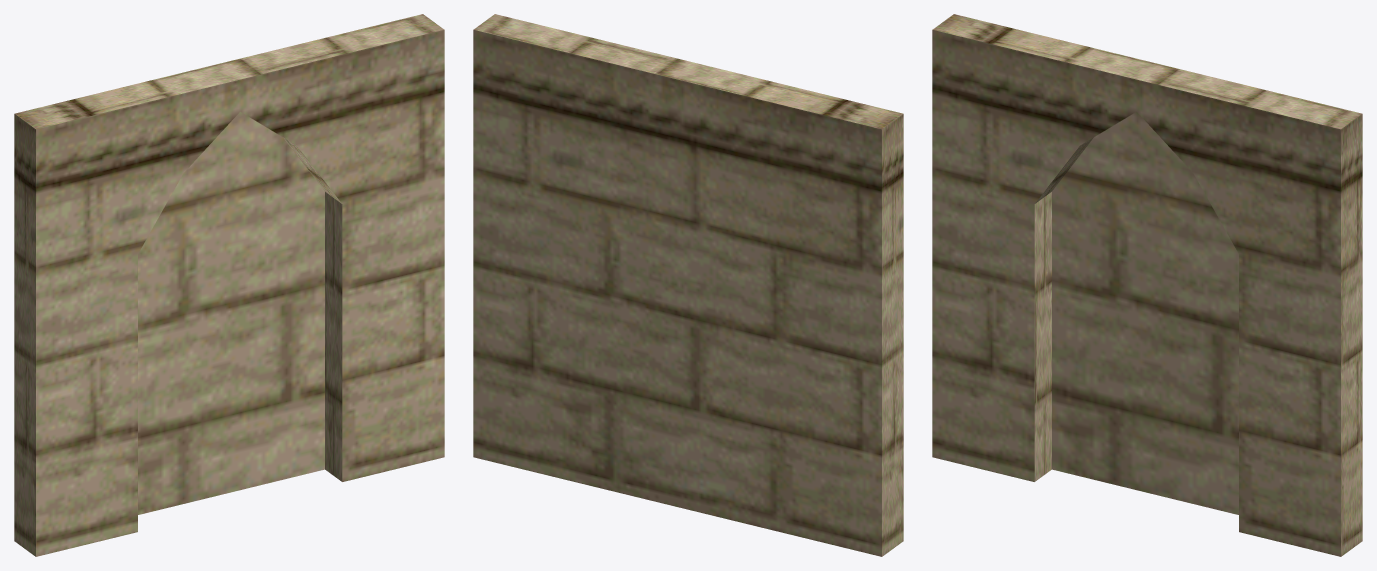
Rendered from KnightPlace.obj.
3 renders of one model, left to right at view 1: azimuth 30°, elevation 25°; view 2: azimuth 150°, elevation 25°; view 3: azimuth 330°, elevation 25°, orthographic.
Visible parts, largest first — view 1: KnightPlace_Cube; view 2: KnightPlace_Cube; view 3: KnightPlace_Cube.
Part boxes in pixels (x1,y1,x2,y2): KnightPlace_Cube: [14, 14, 444, 556]; KnightPlace_Cube: [473, 14, 903, 556]; KnightPlace_Cube: [932, 14, 1362, 556].
Bounding box in the file's own units: 4 × 4 × 0.3648.
